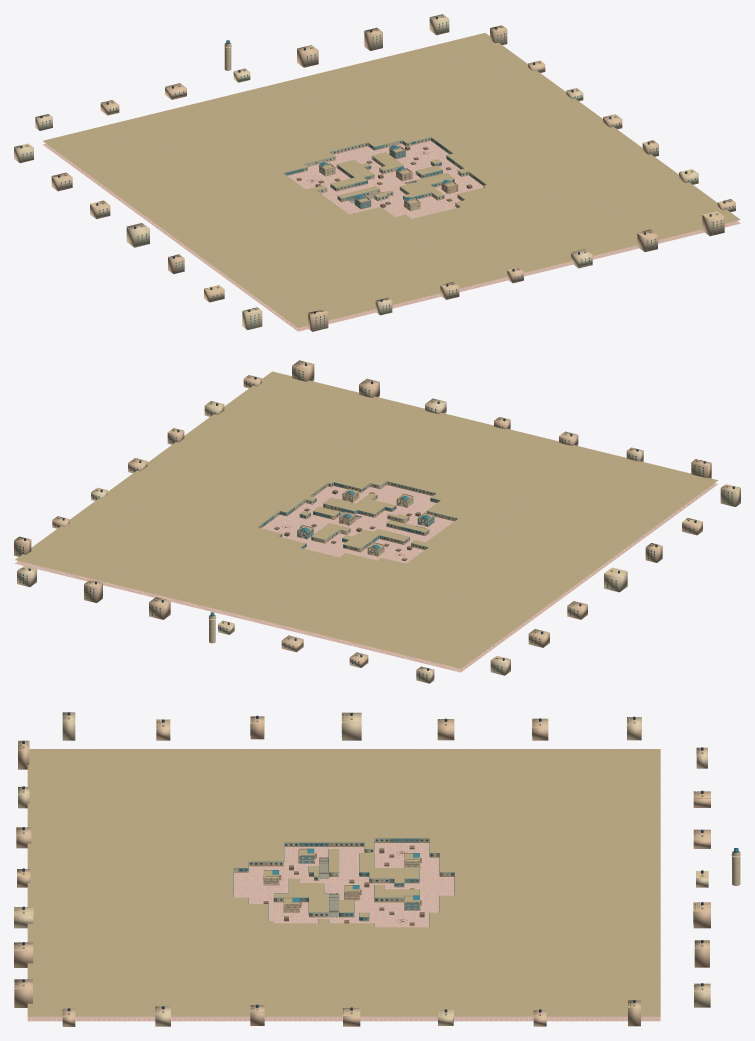
File: anime-dust2.glb
The picture shows the model from 3 angles, top to bottom: view 1: azimuth 30°, elevation 25°; view 2: azimuth 150°, elevation 25°; view 3: azimuth 270°, elevation 25°; orthographic projection. The views are drawn at different scales.
Visible parts, largest first — view 1: 1_1_limestone, 1_0_limestone, 0_1_limestone, backdrop_plaster, backdrop_plaster_light, 1_1_ground, 1_0_ground, 0_0_limestone, backdrop_trim, 0_1_ground, 0_0_ground, backdrop_shutter; view 2: 1_1_limestone, 1_0_limestone, 0_1_limestone, backdrop_plaster, 1_0_ground, backdrop_plaster_light, 0_0_limestone, 0_1_ground, backdrop_trim, 1_1_ground, 0_0_ground, backdrop_shutter; view 3: 1_1_limestone, 1_0_limestone, 0_1_limestone, backdrop_plaster, 1_1_ground, backdrop_plaster_light, 1_0_ground, 0_0_limestone, 0_0_ground, 0_1_ground, backdrop_trim.
Part boxes in pixels (box(x1,y1,x2,y2)): 1_1_limestone: box(219, 90, 740, 327); 1_0_limestone: box(43, 33, 563, 198); 0_1_limestone: box(122, 164, 439, 269); backdrop_plaster: box(51, 25, 735, 331); backdrop_plaster_light: box(14, 14, 698, 329); 1_1_ground: box(219, 168, 740, 331); 1_0_ground: box(42, 141, 457, 202); 0_0_limestone: box(262, 145, 374, 199); backdrop_trim: box(14, 14, 735, 327); 0_1_ground: box(122, 184, 431, 273); 0_0_ground: box(287, 151, 390, 199); backdrop_shutter: box(22, 22, 733, 328); 1_1_limestone: box(95, 371, 717, 538); 1_0_limestone: box(15, 500, 540, 668); 0_1_limestone: box(374, 484, 638, 610); backdrop_plaster: box(14, 360, 711, 667); 1_0_ground: box(15, 507, 540, 672); backdrop_plaster_light: box(17, 398, 740, 683); 0_0_limestone: box(318, 529, 447, 575); 0_1_ground: box(367, 491, 638, 613); backdrop_trim: box(14, 361, 740, 681); 1_1_ground: box(299, 483, 717, 542); 0_0_ground: box(326, 524, 429, 563); backdrop_shutter: box(16, 369, 732, 680); 1_1_limestone: box(27, 749, 464, 1016); 1_0_limestone: box(344, 749, 660, 1016); 0_1_limestone: box(223, 749, 464, 882); backdrop_plaster: box(14, 716, 710, 1026); 1_1_ground: box(27, 887, 464, 1021); backdrop_plaster_light: box(14, 712, 740, 1026); 1_0_ground: box(344, 887, 660, 1021); 0_0_limestone: box(344, 834, 464, 883); 0_0_ground: box(344, 843, 454, 887); 0_1_ground: box(234, 847, 344, 887); backdrop_trim: box(14, 713, 740, 1017).
Bounding box in the file's own units: 556 × 34.45 × 579.
Materials: 17 (17 with a texture image).
